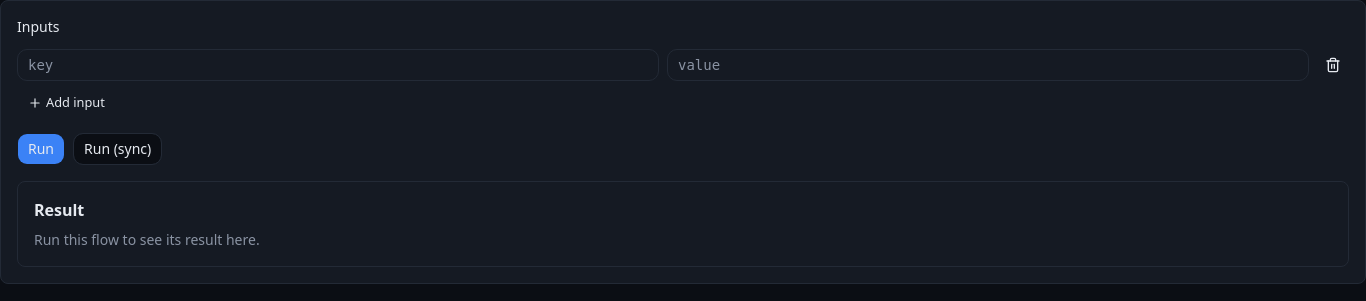
RunTrigger (S4 / D-04 / D-08) › a failed sync run renders the {error} in the result panel (red)
What coordinates should you click on to do the following:
click the button "Run (sync)"
I would click on:
 (118, 149)
Its box is [73,133,162,165].
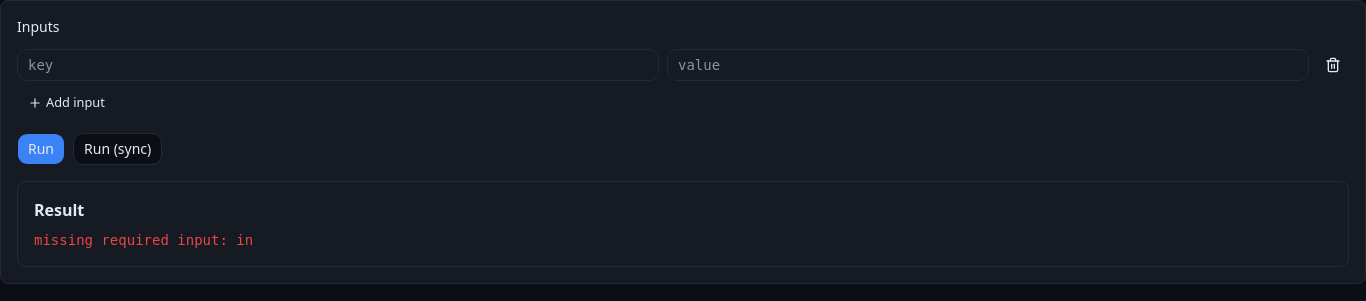
Result: the text "missing required input: in" is shown at [34,232,253,248]
